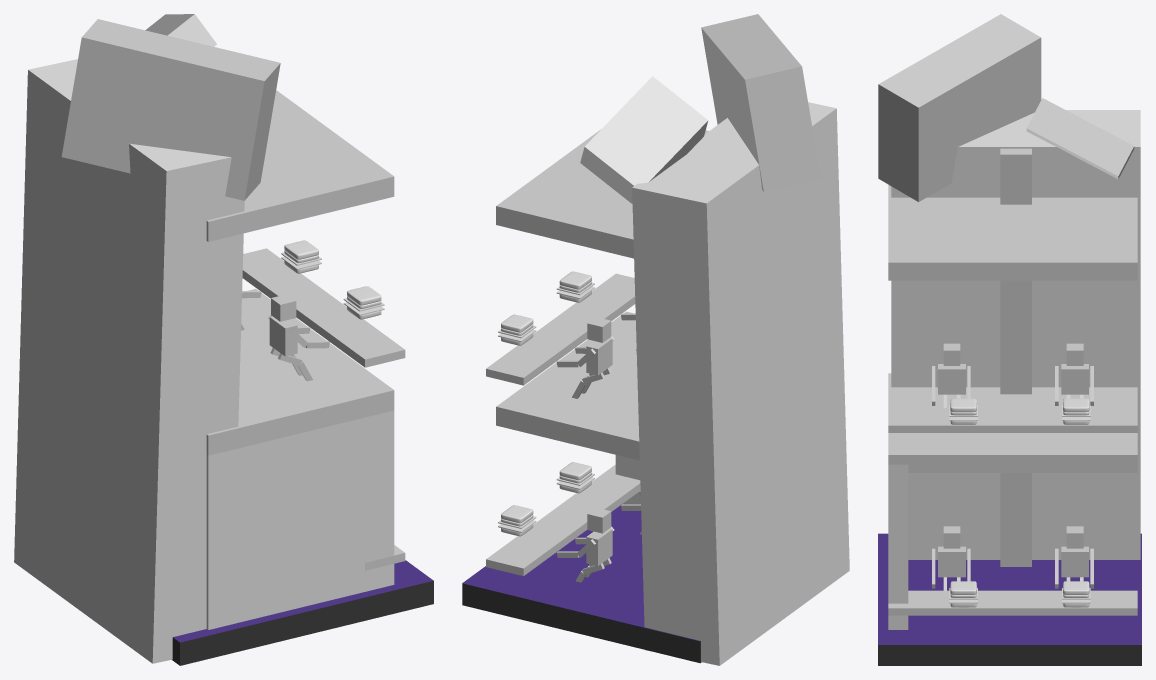
File: checkpoint_2_burger_B.fbx
3 renders of one model, left to right at view 1: azimuth 30°, elevation 25°; view 2: azimuth 150°, elevation 25°; view 3: azimuth 270°, elevation 25°, orthographic. The views are drawn at different scales.
Visible parts, largest first — view 1: Cube.168, Cube.166, Cube.169, Cube.167, Cube.177, Building Segment.004, Cube.170, Cube.174, Cube.182, Cube.171, Cube.172; view 2: Cube.168, Building Segment.004, Cube.169, Cube.167, Cube.177, Cube.182, Cube.170, Cube.178, Cube.176, Cube.180, Cube.172, Cube.171 (+3 smaller); view 3: Cube.168, Cube.177, Building Segment.004, Cube.169, Cube.167, Cube.173, Cube.170, Cube.178, Cube.182, Cube.166, Cube.181, Cube.180 (+6 smaller).
Part boxes in pixels (<box>): Cube.168: <box>14,59,244,663</box>; Cube.166: <box>206,410,394,629</box>; Cube.169: <box>61,19,280,200</box>; Cube.167: <box>206,289,394,455</box>; Cube.177: <box>206,90,394,241</box>; Building Segment.004: <box>172,560,433,665</box>; Cube.170: <box>242,248,405,367</box>; Cube.174: <box>268,294,329,381</box>; Cube.182: <box>145,14,216,46</box>; Cube.171: <box>343,286,384,319</box>; Cube.172: <box>281,240,321,273</box>; Cube.168: <box>632,102,849,665</box>; Building Segment.004: <box>462,504,701,663</box>; Cube.169: <box>701,14,820,191</box>; Cube.167: <box>496,311,639,460</box>; Cube.177: <box>496,129,708,258</box>; Cube.182: <box>580,76,708,203</box>; Cube.170: <box>486,273,635,385</box>; Cube.178: <box>486,464,640,575</box>; Cube.176: <box>556,317,614,398</box>; Cube.180: <box>556,507,614,582</box>; Cube.172: <box>498,314,536,345</box>; Cube.171: <box>556,271,594,302</box>; Cube.168: <box>891,110,1140,559</box>; Cube.177: <box>888,184,1137,280</box>; Building Segment.004: <box>878,533,1141,665</box>; Cube.169: <box>878,14,1041,201</box>; Cube.167: <box>888,373,1137,472</box>; Cube.173: <box>1000,148,1031,566</box>; Cube.170: <box>888,408,1137,432</box>; Cube.178: <box>888,590,1137,615</box>; Cube.182: <box>1026,98,1134,179</box>; Cube.166: <box>888,464,908,629</box>; Cube.181: <box>932,526,970,590</box>; Cube.180: <box>1055,526,1093,588</box>.
Bounding box in the file's own units: 958 × 1769 × 800.
